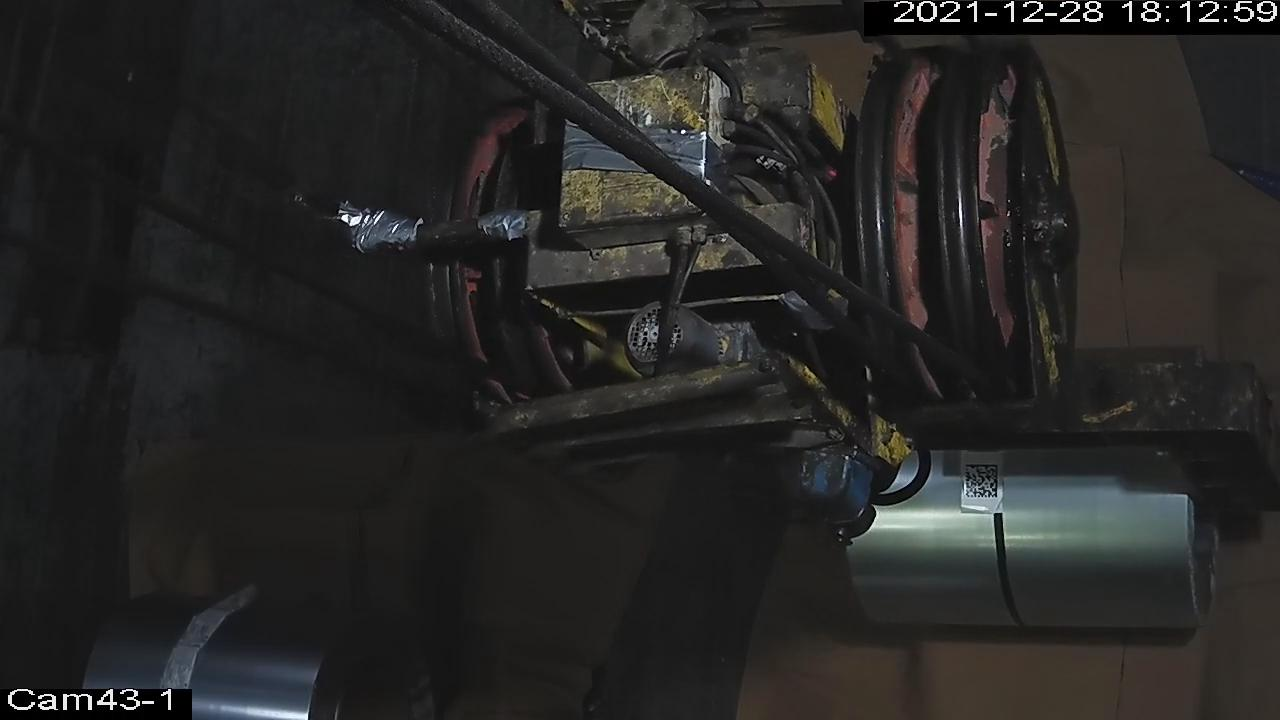data matrix: (964, 464, 1001, 501)
